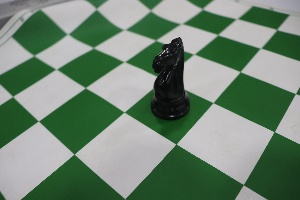black_horse: (140, 22, 198, 125)
